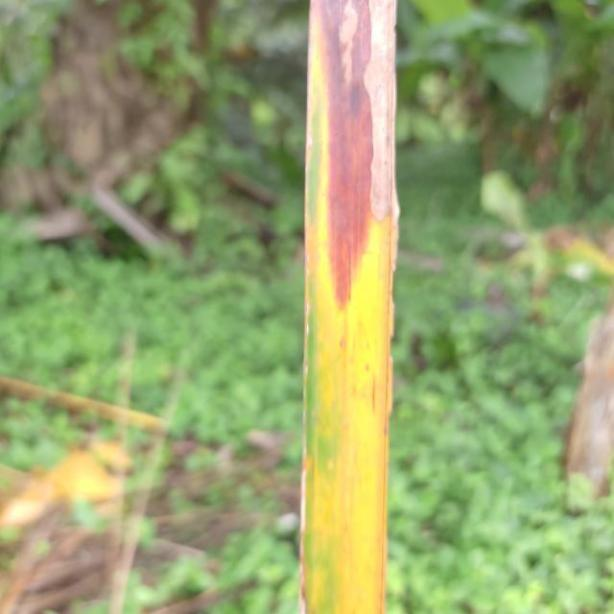Megnesium: (295, 0, 402, 614)
